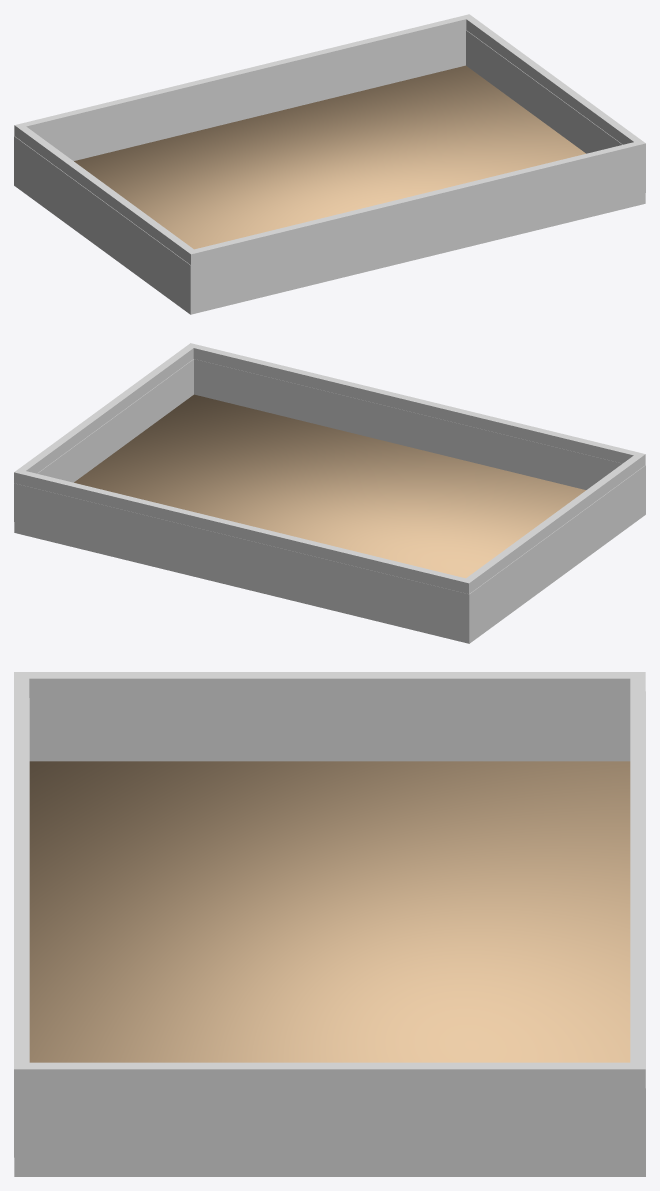
File: zemin.gltf
The picture shows the model from 3 angles, top to bottom: view 1: azimuth 30°, elevation 25°; view 2: azimuth 150°, elevation 25°; view 3: azimuth 270°, elevation 25°; orthographic projection. The views are drawn at different scales.
Visible parts, largest first — view 1: Ground; view 2: Ground; view 3: Ground.
Part boxes in pixels (x1=…): Ground: x1=14, y1=14, x2=645, y2=314; Ground: x1=14, y1=343, x2=645, y2=643; Ground: x1=14, y1=672, x2=645, y2=1176.
Bounding box in the file's own units: 11.93 × 1.51 × 8.01.
